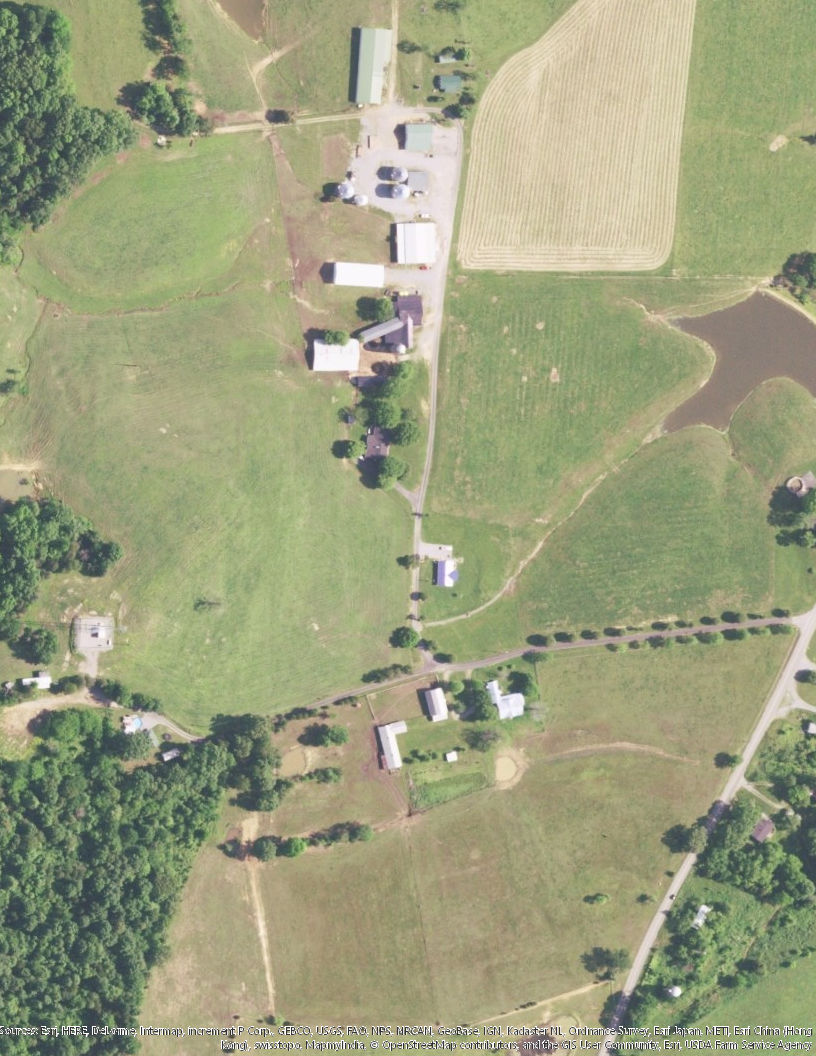cafo: (348, 23, 399, 107), (394, 220, 443, 269), (306, 336, 367, 373), (326, 256, 393, 288)
